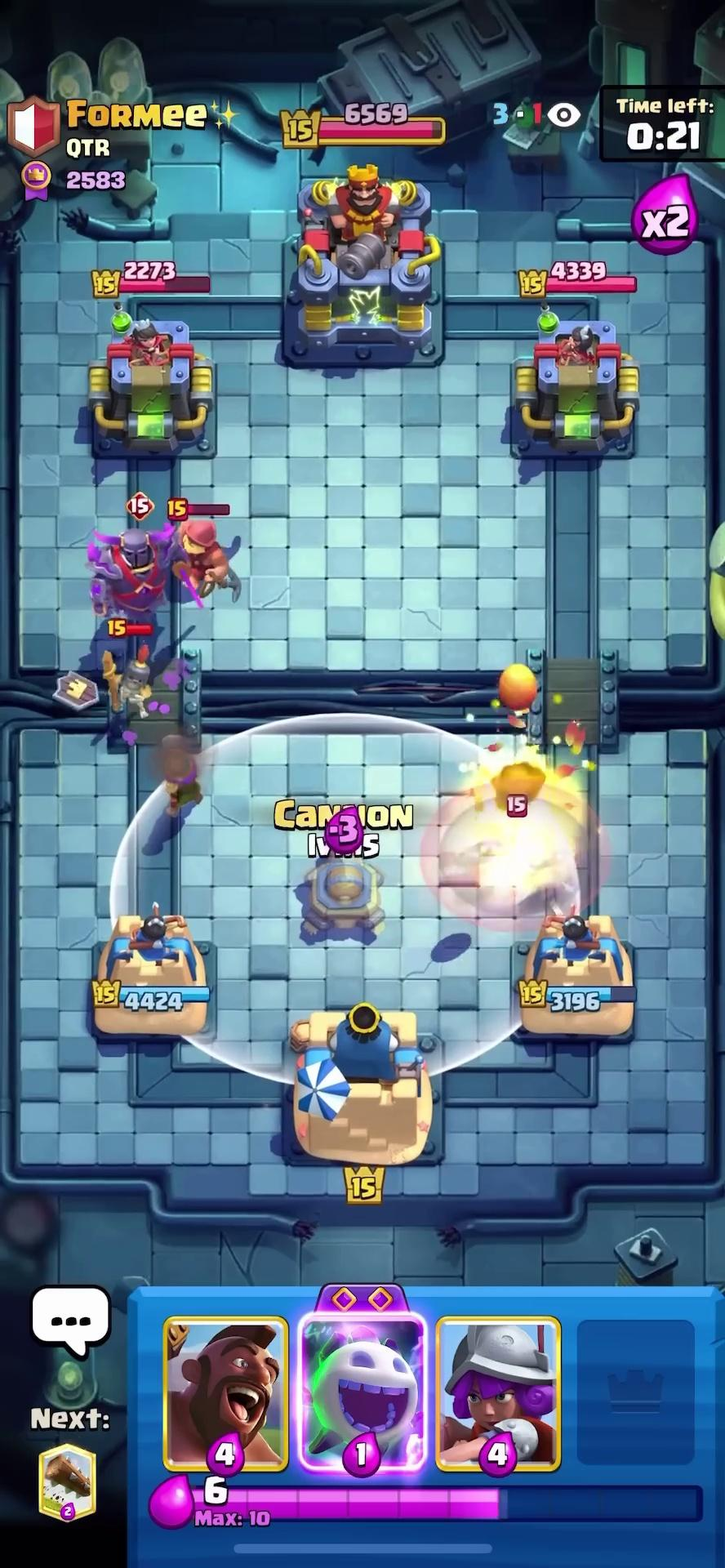musketeer: (141, 733, 218, 817)
